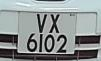0: (43, 34, 56, 53)
1: (38, 33, 46, 54)
2: (55, 33, 69, 55)
6: (26, 33, 38, 54)
V: (34, 13, 49, 35)
X: (48, 13, 62, 35)
